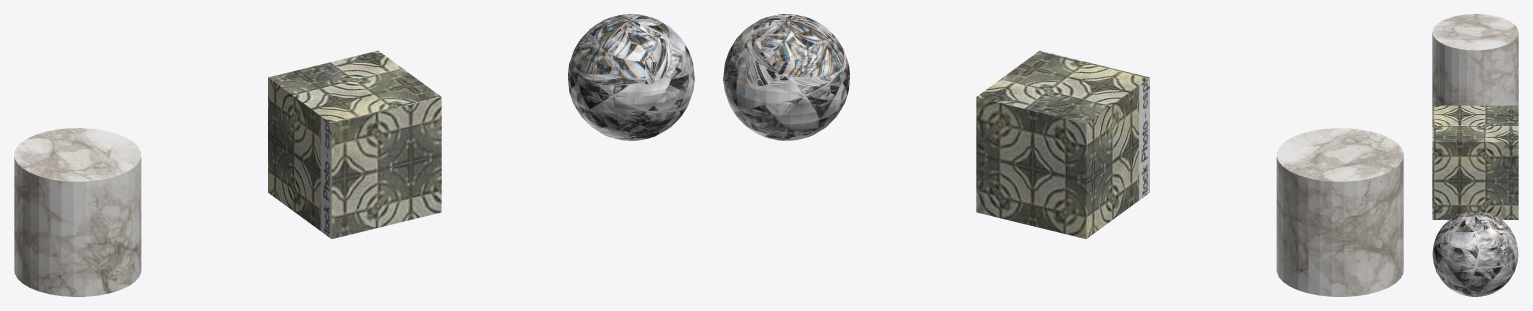
File: Esfera_Cubo_Cilindro.glb
The picture shows the model from 3 angles, left to right: view 1: azimuth 30°, elevation 25°; view 2: azimuth 150°, elevation 25°; view 3: azimuth 270°, elevation 25°; orthographic projection. The views are drawn at different scales.
Visible parts, largest first — view 1: Cube, Cilindro, Esfera; view 2: Cube, Cilindro, Esfera; view 3: Cube, Cilindro, Esfera.
Boxes of the visible parts, box(x1,y1,x2,y2) form: Cube: box(268, 50, 441, 238); Cilindro: box(14, 128, 141, 296); Esfera: box(568, 14, 694, 140); Cube: box(976, 50, 1149, 238); Cilindro: box(1276, 128, 1403, 296); Esfera: box(723, 14, 849, 140); Cube: box(1432, 105, 1518, 219); Cilindro: box(1432, 14, 1518, 105); Esfera: box(1432, 211, 1518, 296).
Bounding box in the file's own units: 12.05 × 2 × 2.
Materials: 3 (3 with a texture image).
